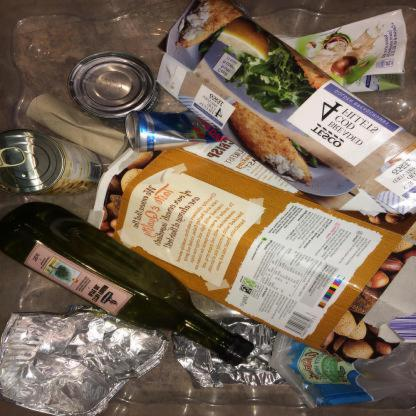Aluminium foil: (1, 304, 170, 416), (171, 317, 290, 390)
Bottle: (225, 339, 254, 366)
Bottle cap: (1, 202, 254, 367)
Can: (0, 128, 102, 196), (68, 51, 160, 123), (125, 110, 229, 153)
Carton: (87, 139, 416, 363), (156, 0, 415, 216), (279, 9, 407, 92), (26, 93, 128, 162)
Plastic bag - wrapper: (268, 332, 416, 411)
Pop tab: (1, 147, 26, 169)
